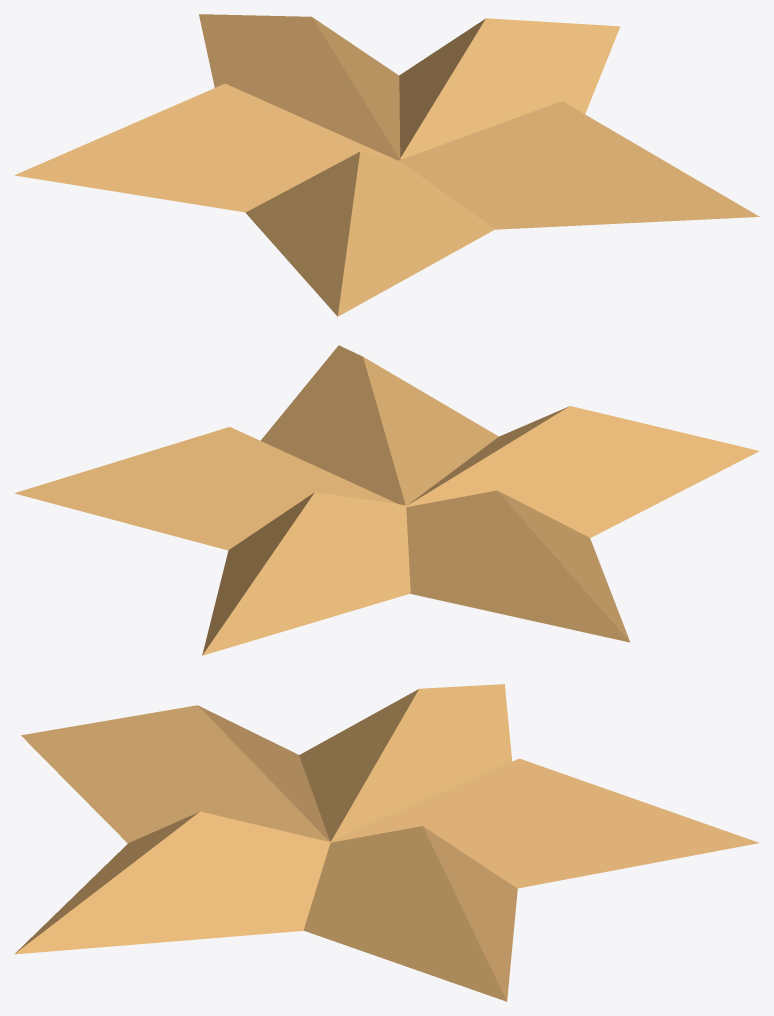
3 views of the same model, one above another, from view 1: azimuth 30°, elevation 25°; view 2: azimuth 150°, elevation 25°; view 3: azimuth 270°, elevation 25° (orthographic). The views are drawn at different scales.
Visible parts, largest first — view 1: Plane; view 2: Plane; view 3: Plane.
Boxes of the visible parts, x1,y1,x2,y2 form: Plane: [14, 14, 759, 316]; Plane: [14, 345, 759, 655]; Plane: [14, 684, 758, 1001].
Bounding box in the file's own units: 142 × 17.68 × 141.
